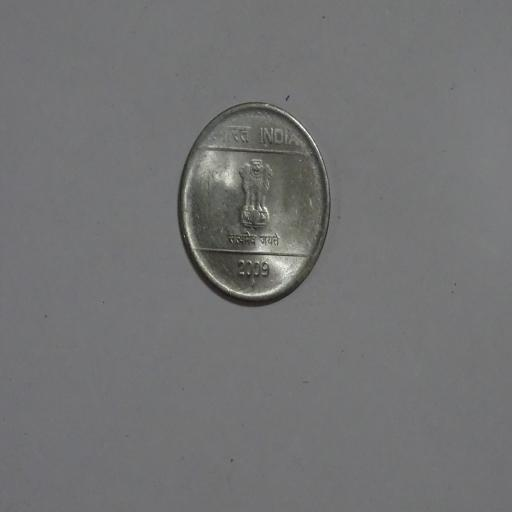rupee1: (174, 98, 332, 310)
